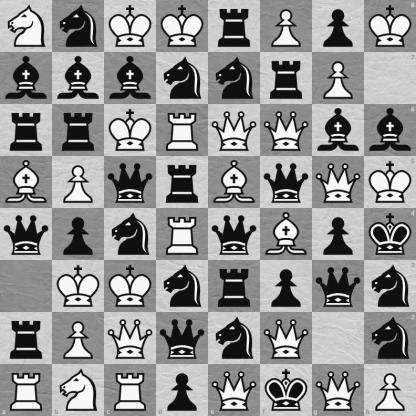B: (1, 157, 52, 208), (209, 157, 260, 208), (261, 209, 312, 260)
K: (364, 156, 416, 209), (364, 0, 416, 52), (53, 261, 104, 312), (105, 1, 156, 52), (105, 105, 156, 156), (105, 261, 156, 312), (157, 1, 208, 52)
N: (52, 364, 104, 416), (1, 1, 52, 52)
P: (364, 364, 416, 416), (53, 157, 104, 208), (53, 313, 104, 364), (261, 1, 312, 52), (313, 53, 364, 104)
Q: (312, 364, 364, 416), (209, 364, 260, 416), (105, 313, 156, 364), (209, 105, 260, 156), (261, 105, 312, 156), (261, 313, 312, 364), (313, 157, 364, 208)
R: (0, 364, 52, 416), (104, 364, 156, 416), (157, 105, 208, 156), (157, 209, 208, 260)
b: (364, 104, 416, 156), (1, 53, 52, 104), (53, 53, 104, 104), (105, 53, 156, 104), (313, 105, 364, 156)
board: (0, 0, 415, 415)
k: (260, 364, 312, 416), (364, 209, 416, 260)
n: (364, 260, 416, 312), (364, 312, 416, 364), (53, 1, 104, 52), (105, 209, 156, 260), (157, 53, 208, 104), (157, 261, 208, 312), (209, 53, 260, 104), (209, 313, 260, 364)
p: (156, 364, 209, 416), (53, 209, 104, 260), (261, 261, 312, 312), (313, 1, 364, 52), (313, 209, 364, 260)
q: (1, 209, 52, 260), (105, 157, 156, 208), (157, 313, 208, 364), (209, 209, 260, 260), (261, 157, 312, 208), (313, 261, 364, 312)
r: (1, 105, 52, 156), (1, 313, 52, 364), (53, 105, 104, 156), (157, 157, 208, 208), (209, 1, 260, 52), (209, 261, 260, 312), (261, 53, 312, 104)
